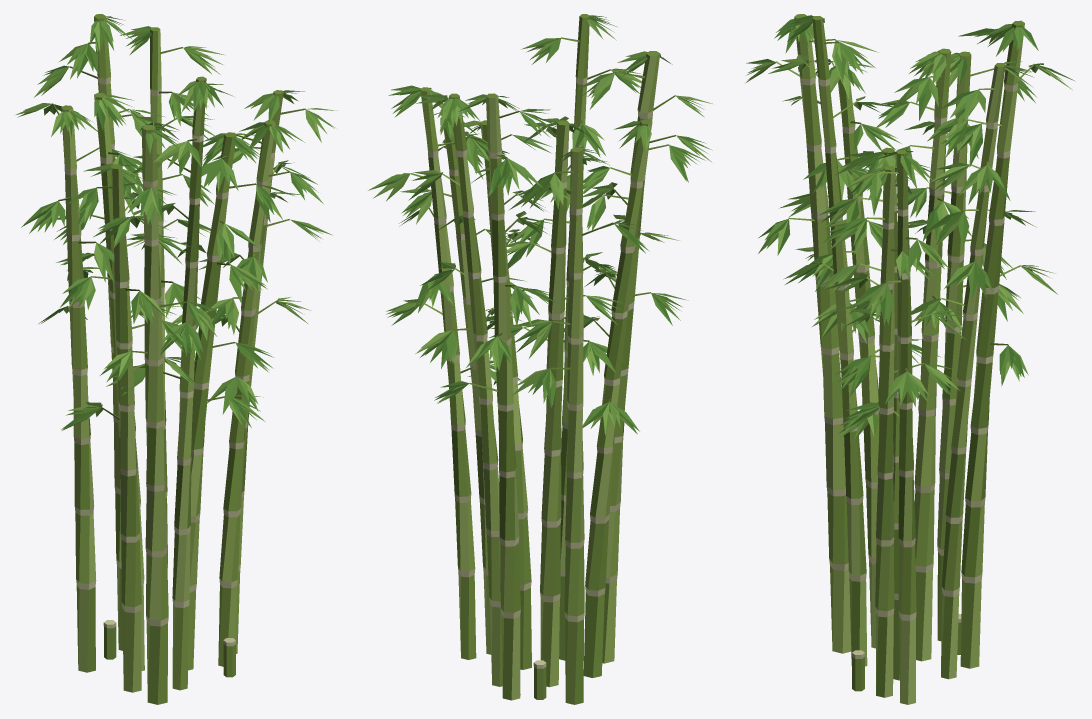
The model's file is zen_bamboo.glb.
The picture shows the model from 3 angles, left to right: view 1: azimuth 30°, elevation 25°; view 2: azimuth 150°, elevation 25°; view 3: azimuth 270°, elevation 25°; orthographic projection. The views are drawn at different scales.
Parts seen in each view (by area): view 1: zen_bamboo; view 2: zen_bamboo; view 3: zen_bamboo.
Part boxes in pixels (x1=…): zen_bamboo: x1=16, y1=14, x2=337, y2=704; zen_bamboo: x1=368, y1=14, x2=713, y2=704; zen_bamboo: x1=746, y1=14, x2=1075, y2=704.
Bounding box in the file's own units: 4.91 × 9.99 × 4.66.
